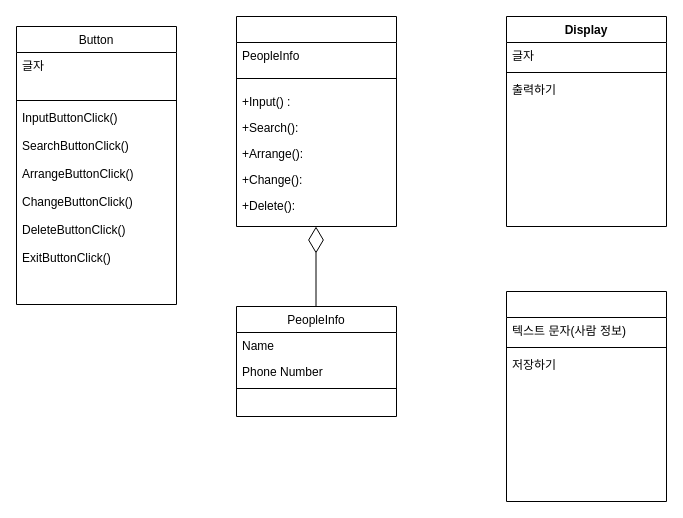
This 683x518 diagram has some shape labels left out. The shapes that lost their labels are listed below. From the top down, each one's box as (x1, y1, x2, y2) in pixels, then its label:
(236, 16, 396, 226): PhoneNumList
(506, 290, 666, 502): 데이터파일
